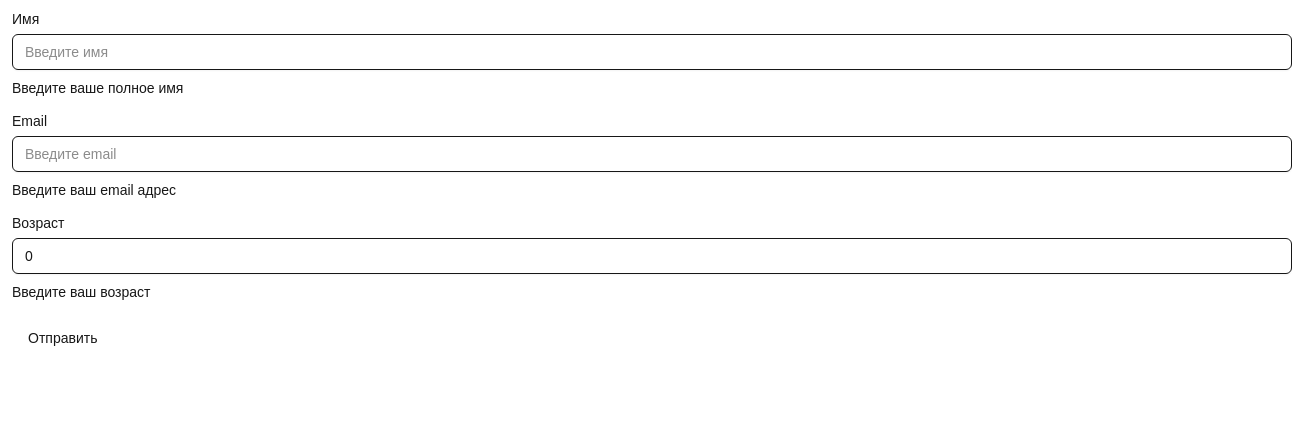
Test: Form › shows validation errors for invalid data
# Заполняем форму невалидными данными
Type "А" into the field labelled "Имя". click: (652, 52)
box: [12,34,1292,70]
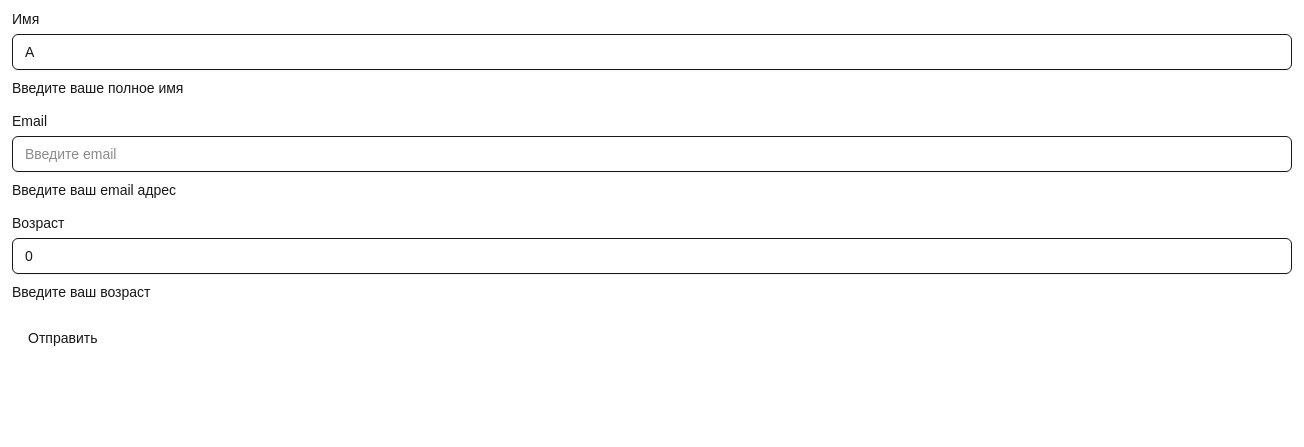
Type "invalid-email" into the field labelled "Email". click: (652, 154)
box: [12,136,1292,172]
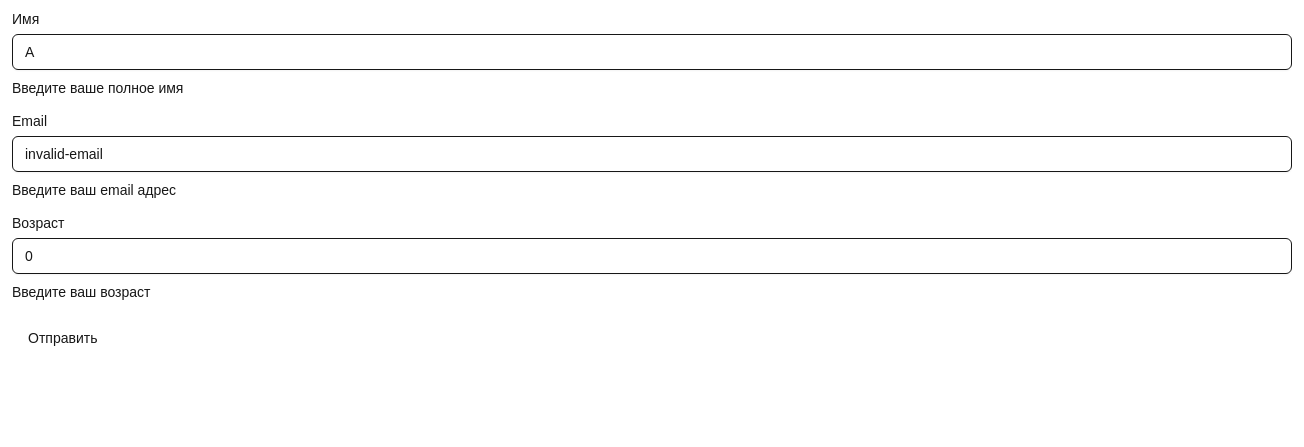
Replace the text in the number field labelled "Возраст" with "15". click: (652, 256)
box: [12,238,1292,274]
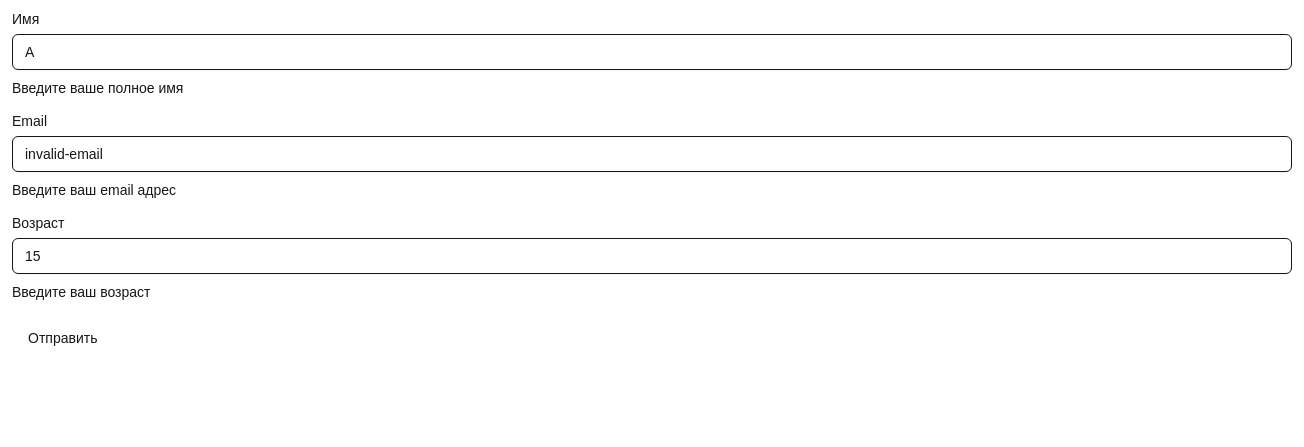
Submit the form
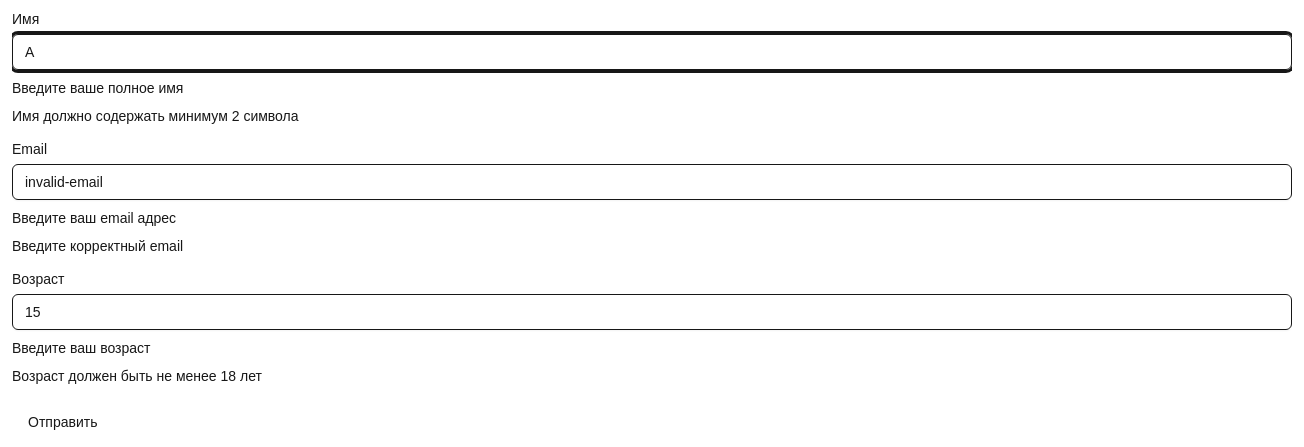
Now the text "Имя должно содержать минимум 2 символа" is shown, box [12,108,298,124]
Now the text "Введите корректный email" is shown, box [12,238,183,254]
Now the text "Возраст должен быть не менее 18 лет" is shown, box [12,368,262,384]
